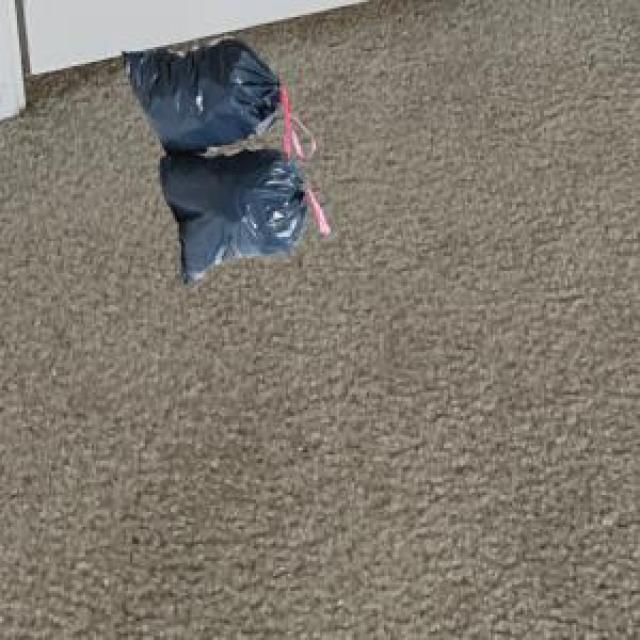miscellaneous trash: (117, 32, 324, 280)
